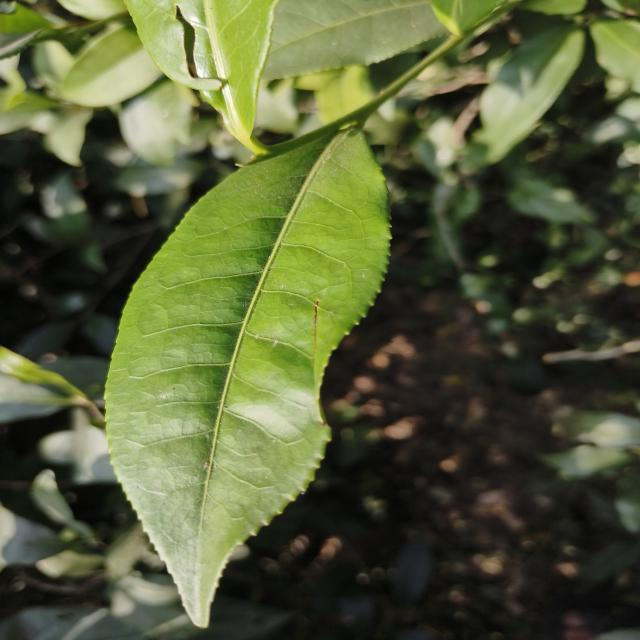Leaf: (106, 130, 390, 627), (124, 0, 277, 152), (476, 27, 584, 163), (262, 0, 445, 80), (58, 24, 163, 107), (119, 92, 178, 165), (0, 505, 63, 571), (590, 20, 640, 92), (0, 373, 71, 423), (114, 159, 204, 197), (554, 411, 640, 447)
